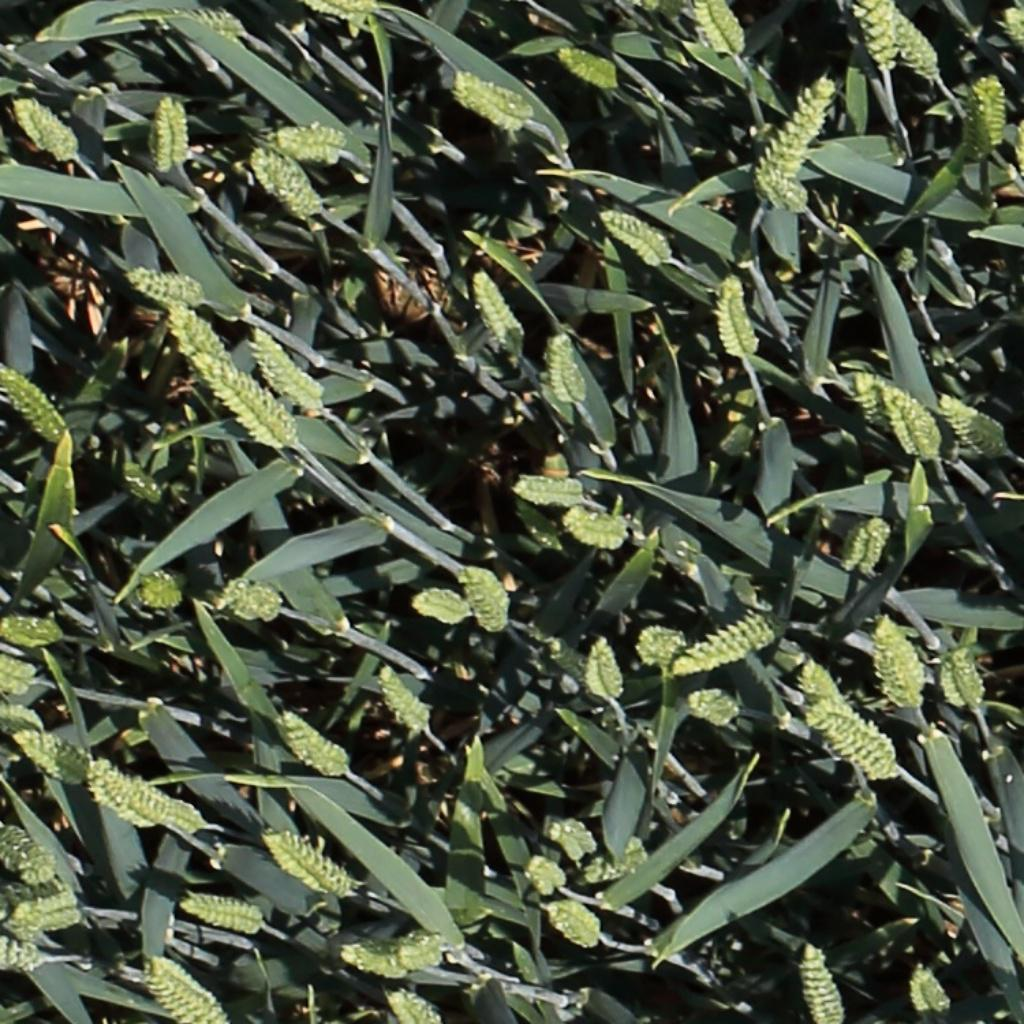0-0: (196, 345, 300, 446), (77, 750, 200, 830), (760, 70, 841, 185), (0, 358, 74, 465), (248, 322, 324, 410), (800, 657, 878, 742), (0, 869, 96, 936), (884, 1, 948, 84), (809, 712, 897, 772), (266, 835, 350, 897), (705, 270, 759, 366), (277, 709, 350, 780), (677, 621, 776, 671), (876, 378, 937, 458), (252, 144, 320, 215), (165, 300, 236, 368), (12, 90, 79, 161), (472, 266, 524, 354), (876, 617, 924, 712), (146, 959, 219, 1021), (375, 662, 434, 738), (155, 86, 204, 177), (890, 386, 944, 464), (600, 206, 673, 263), (460, 561, 513, 638), (937, 393, 1006, 451), (937, 644, 989, 718), (514, 468, 603, 511), (260, 117, 348, 160), (457, 75, 532, 125), (970, 72, 1015, 151), (802, 942, 845, 1024), (13, 731, 80, 783), (581, 837, 646, 890), (550, 327, 591, 409), (858, 0, 901, 75), (125, 267, 204, 303), (851, 368, 894, 434), (0, 832, 54, 884), (589, 632, 625, 708), (542, 814, 600, 861), (703, 1, 749, 60), (180, 898, 263, 929), (759, 163, 811, 212), (559, 46, 622, 86), (858, 513, 895, 581), (845, 514, 882, 580), (390, 924, 449, 965), (337, 941, 406, 976), (912, 959, 950, 1021), (0, 647, 43, 699), (136, 560, 186, 604), (547, 906, 602, 944), (223, 582, 281, 617), (565, 512, 632, 542), (193, 12, 257, 42), (524, 857, 569, 897), (412, 588, 470, 619), (0, 619, 62, 643), (389, 989, 434, 1022), (689, 696, 742, 722), (988, 9, 1024, 46), (308, 0, 378, 17), (0, 708, 43, 734), (0, 937, 38, 965)
